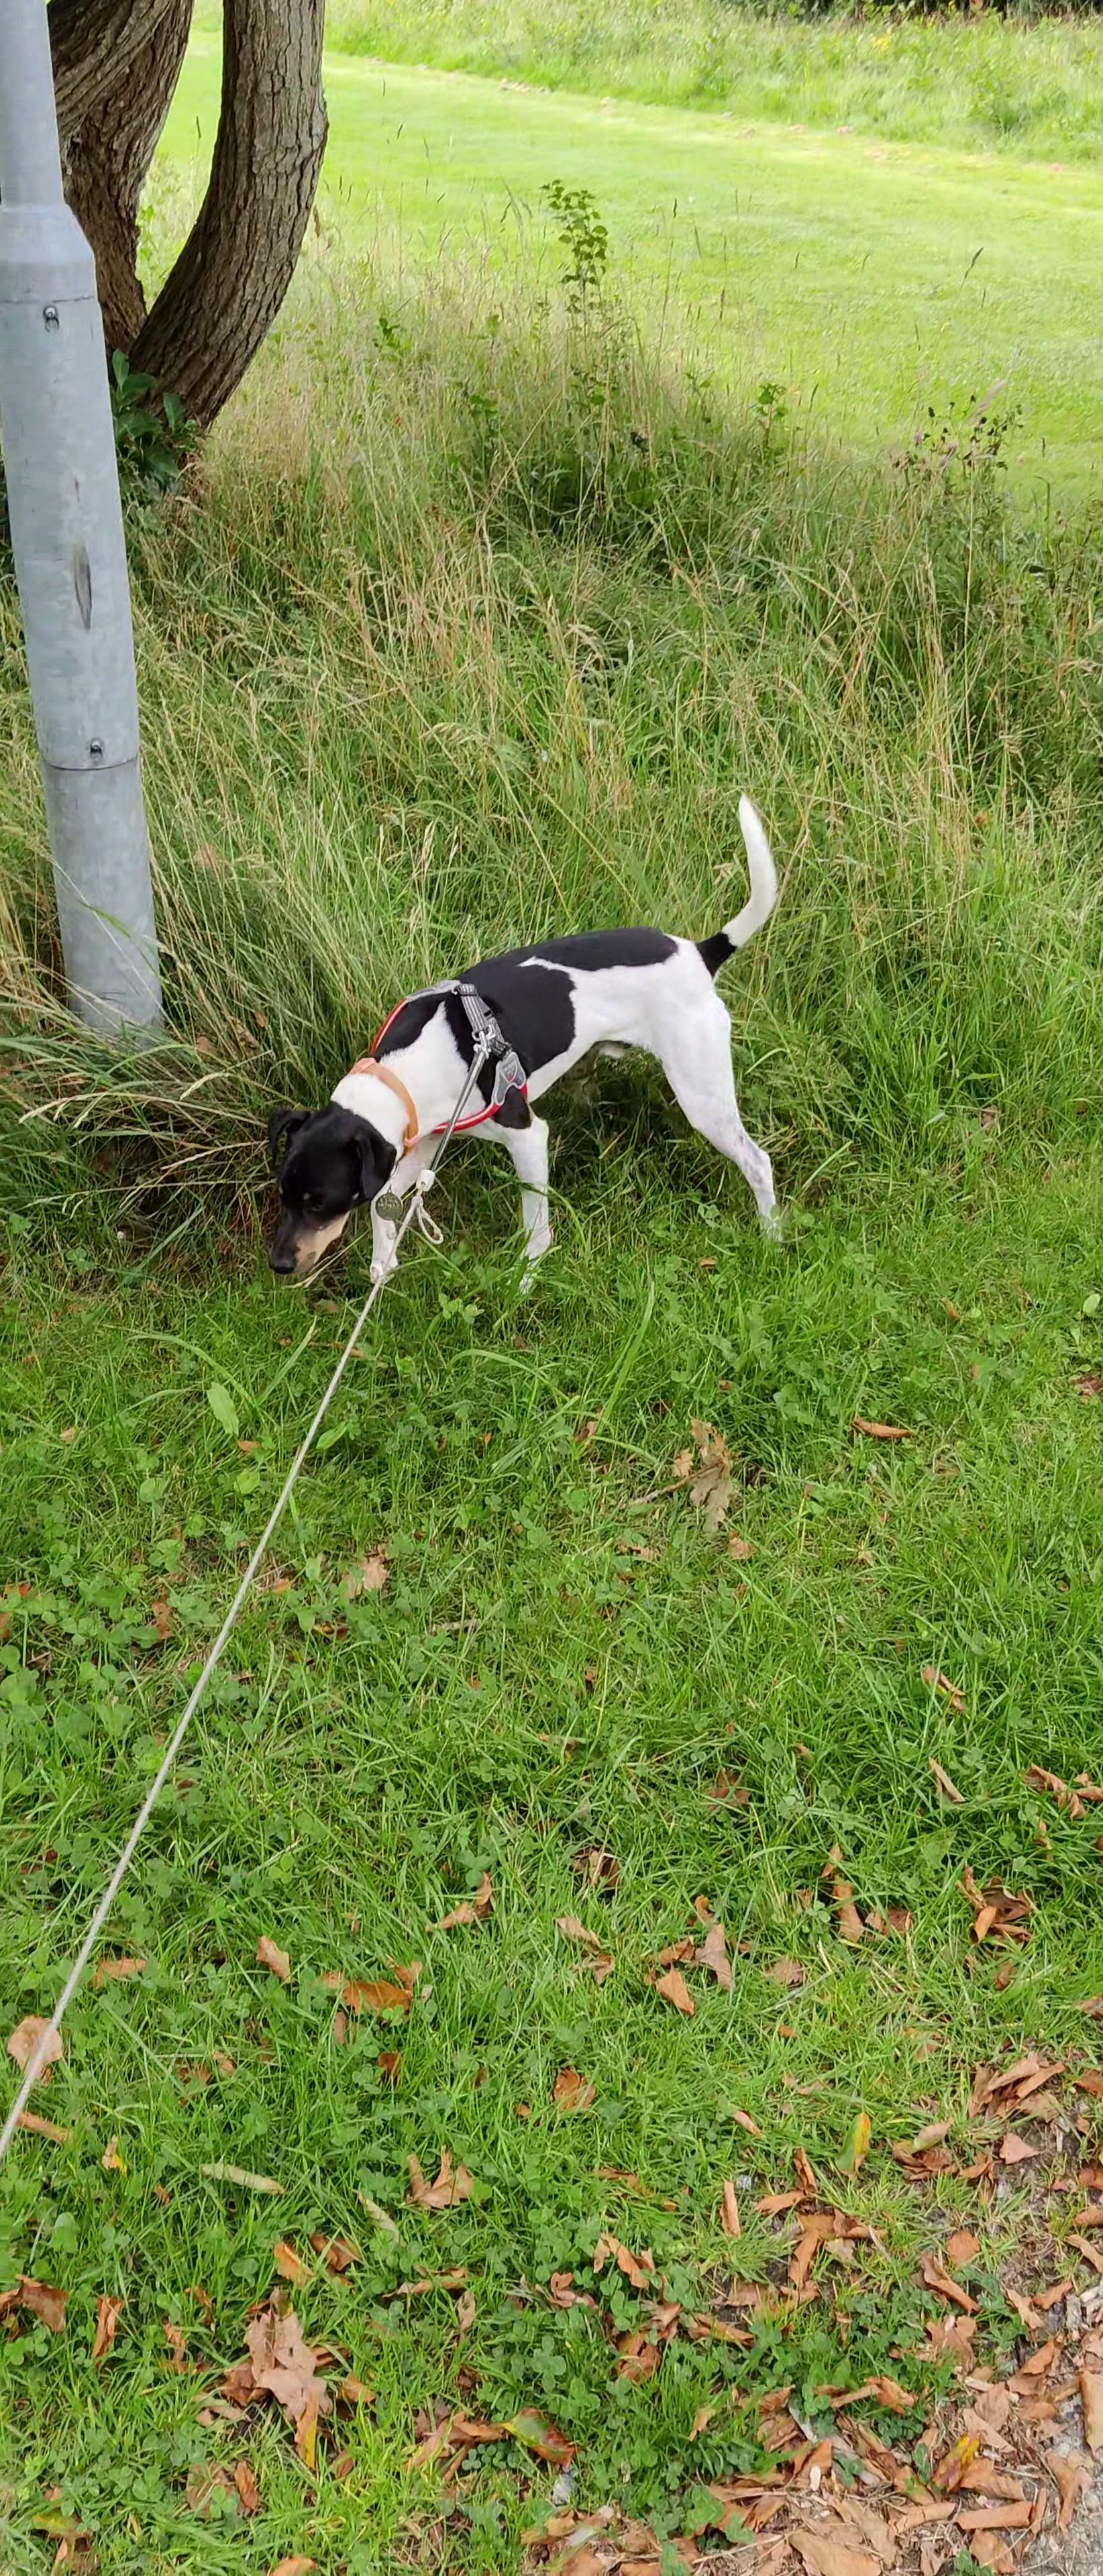Dog: (258, 780, 789, 1285)
